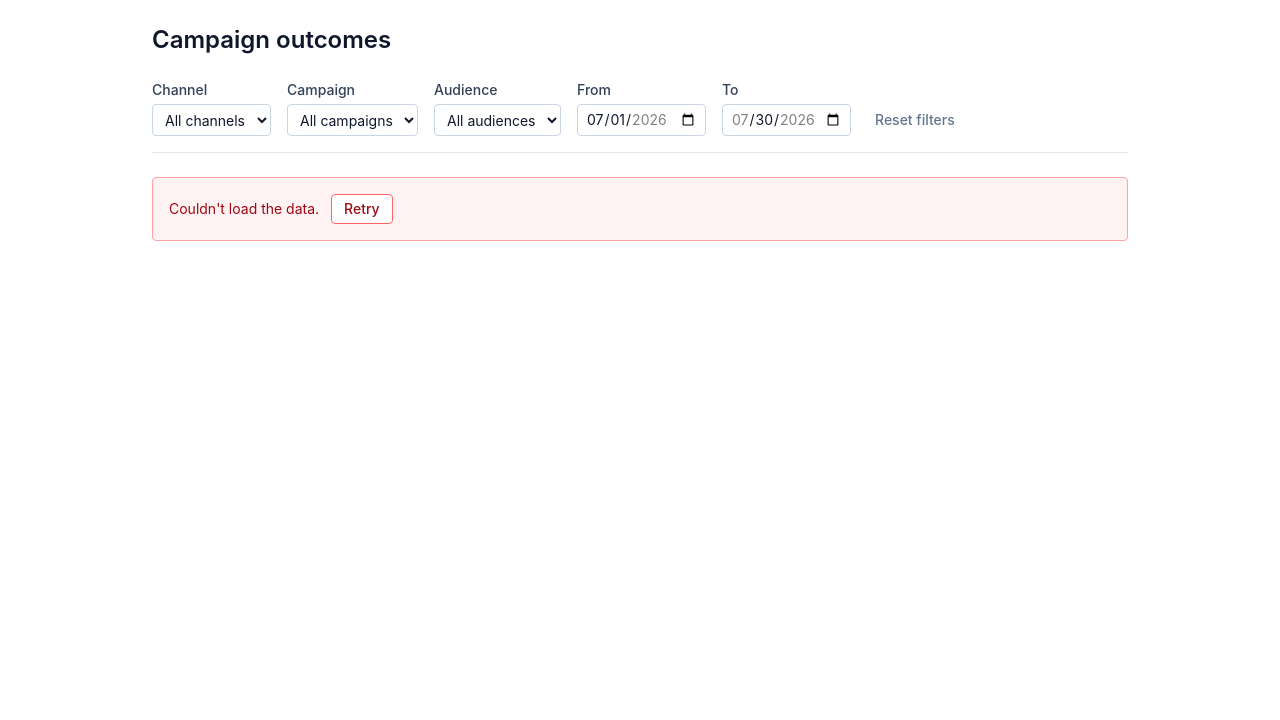
Test: shows an error with a retry that refetches
Check: the message "Couldn't load the data. Retry" is shown, box left=152, top=177, right=1128, bottom=241
Click the button "Retry" at (362, 209), box left=331, top=194, right=393, bottom=224
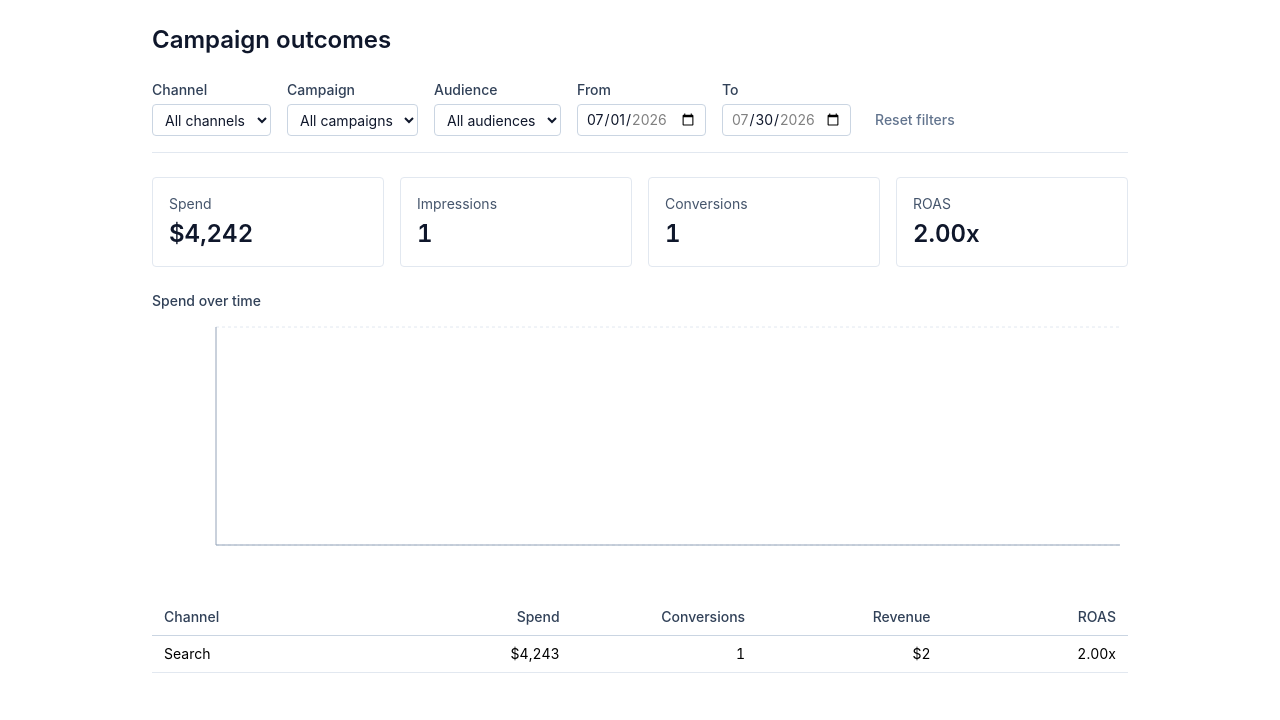
Check: the table is shown, box left=152, top=599, right=1128, bottom=673
Check: the text "$4,242" is shown, box left=169, top=219, right=253, bottom=248
Check: the message "Couldn't load the data. Retry" is gone
